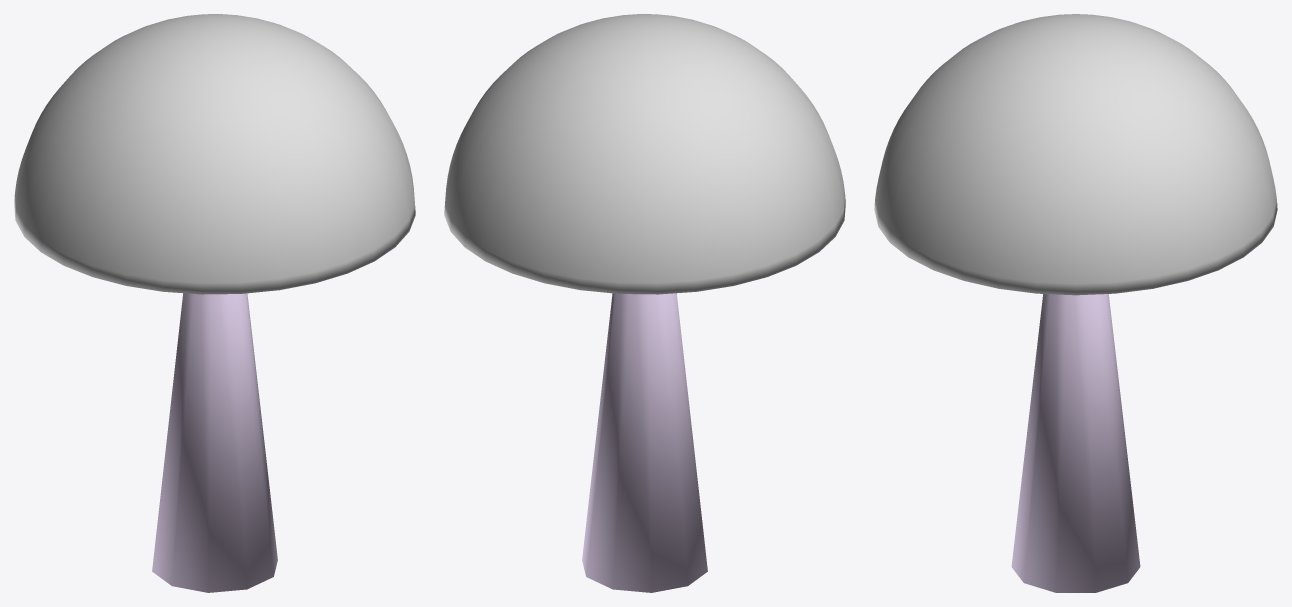
The model's file is grzyb_.fbx.
3 renders of one model, left to right at view 1: azimuth 30°, elevation 25°; view 2: azimuth 150°, elevation 25°; view 3: azimuth 270°, elevation 25°, orthographic.
Parts seen in each view (by area): view 1: Kula, Walec; view 2: Kula, Walec; view 3: Kula, Walec.
Boxes of the visible parts, <box> form: Kula: <box>14,14,415,294</box>; Walec: <box>152,293,277,592</box>; Kula: <box>444,14,845,294</box>; Walec: <box>582,293,707,592</box>; Kula: <box>874,14,1277,295</box>; Walec: <box>1011,294,1140,592</box>.
Size of the model in its own units: 244 by 356 by 244.
